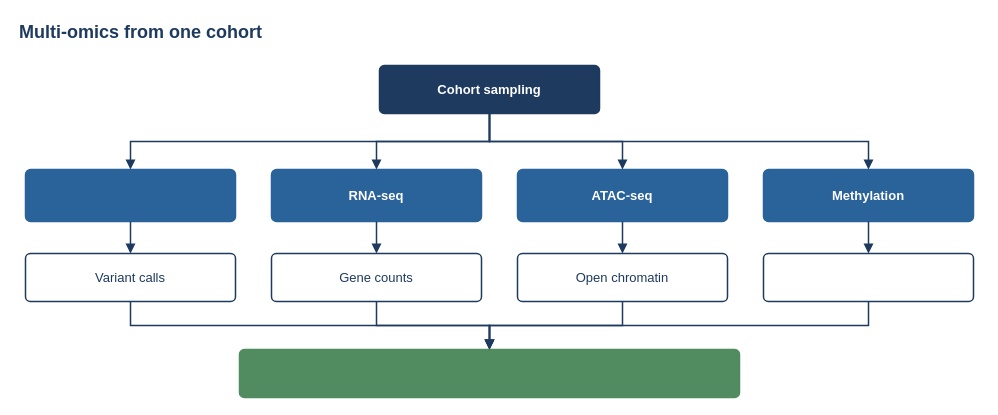
Some shapes in this 998 by 415 pixel diagram are drawn without their labels. Here are the shapes that lost their labels. From the top down, the box of each, then its label:
(24, 168, 236, 222): Whole genome
(762, 252, 974, 302): CpG beta
(238, 348, 740, 398): Multi-omics integration
